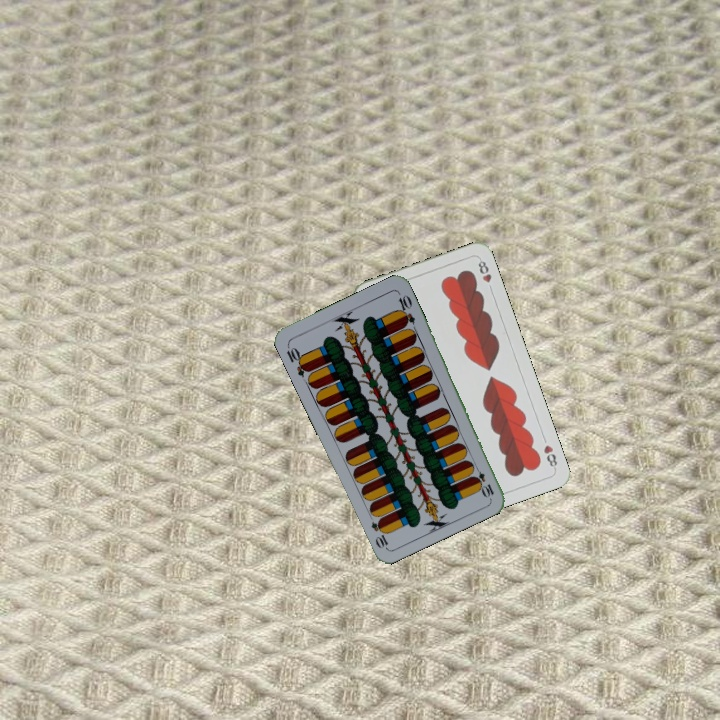E10: (282, 341, 312, 379), (469, 461, 497, 500)
H8: (540, 441, 560, 472)
